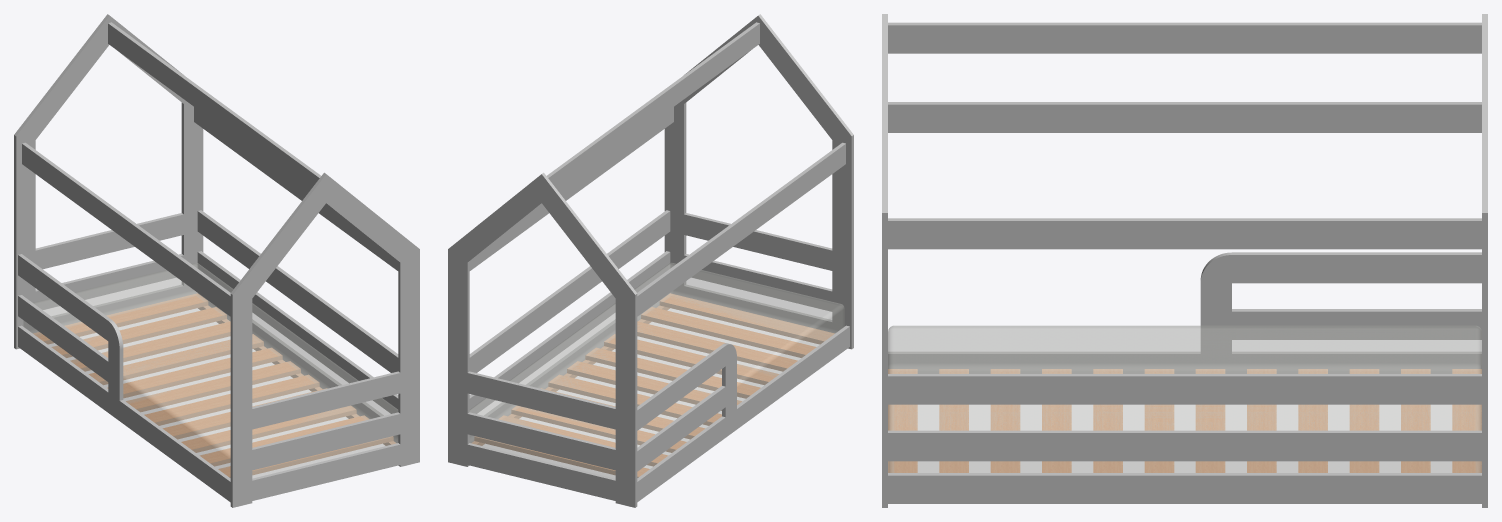
3 views of the same model, side by side, from view 1: azimuth 30°, elevation 25°; view 2: azimuth 150°, elevation 25°; view 3: azimuth 270°, elevation 25° (orthographic). The views are drawn at different scales.
Visible parts, largest first — view 1: Body1.036_48, Body1.005_121, Body1.026_133, Body1.028_45, Body1.021_59, Body2.001_3, Body1.022_62, Body2_0, Body1.034_23, Body1.035_26, Body1.023_67, Body1.001_146 (+23 smaller); view 2: Body1.036_48, Body1.005_121, Body1.026_133, Body1.028_45, Body1_149, Body2.001_3, Body1.001_146, Body1.021_59, Body2_0, Body1.032_33, Body1.033_36, Body1.002_154 (+23 smaller); view 3: Body1.036_48, Body2_0, Body1.028_45, Body1.027_130, Body2.001_3, Body1.007_113, Body1.026_133, Body1.005_121, Body1.031_16, Body1.030_13, Body1.029_10, Body1.022_62 (+15 smaller).
Boxes of the visible parts, <box> form: Body1.036_48: <box>23,263,398,478</box>; Body1.005_121: <box>18,325,230,502</box>; Body1.026_133: <box>22,142,230,316</box>; Body1.028_45: <box>108,22,320,190</box>; Body1.021_59: <box>230,299,252,507</box>; Body2.001_3: <box>197,210,398,372</box>; Body1.022_62: <box>398,258,419,466</box>; Body2_0: <box>197,251,398,413</box>; Body1.034_23: <box>252,412,400,470</box>; Body1.035_26: <box>252,371,400,429</box>; Body1.023_67: <box>252,443,400,500</box>; Body1.001_146: <box>181,103,203,296</box>; Body1.036_48: <box>469,263,844,478</box>; Body1.005_121: <box>637,325,849,502</box>; Body1.026_133: <box>637,142,845,316</box>; Body1.028_45: <box>547,22,759,190</box>; Body1_149: <box>615,299,637,507</box>; Body2.001_3: <box>469,210,670,372</box>; Body1.001_146: <box>448,258,469,466</box>; Body1.021_59: <box>832,140,853,349</box>; Body2_0: <box>469,251,670,413</box>; Body1.032_33: <box>467,412,615,470</box>; Body1.033_36: <box>467,371,615,429</box>; Body1.002_154: <box>467,443,615,500</box>; Body1.036_48: <box>888,325,1481,472</box>; Body2_0: <box>888,430,1481,461</box>; Body1.028_45: <box>888,22,1481,53</box>; Body1.027_130: <box>888,218,1481,249</box>; Body2.001_3: <box>888,374,1481,404</box>; Body1.007_113: <box>888,473,1481,503</box>; Body1.026_133: <box>888,102,1481,132</box>; Body1.005_121: <box>888,351,1481,373</box>; Body1.031_16: <box>1232,252,1481,283</box>; Body1.030_13: <box>1232,309,1481,339</box>; Body1.029_10: <box>1200,252,1231,353</box>; Body1.022_62: <box>882,224,887,507</box>.
Bounding box in the file's own units: 0.958 × 1.52 × 1.94.
